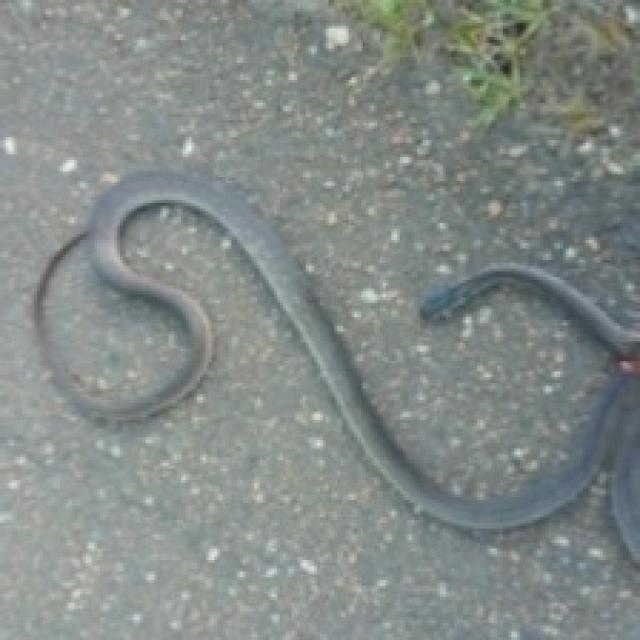reddish rat snake: (34, 169, 626, 526), (40, 234, 189, 403), (420, 263, 637, 357)
